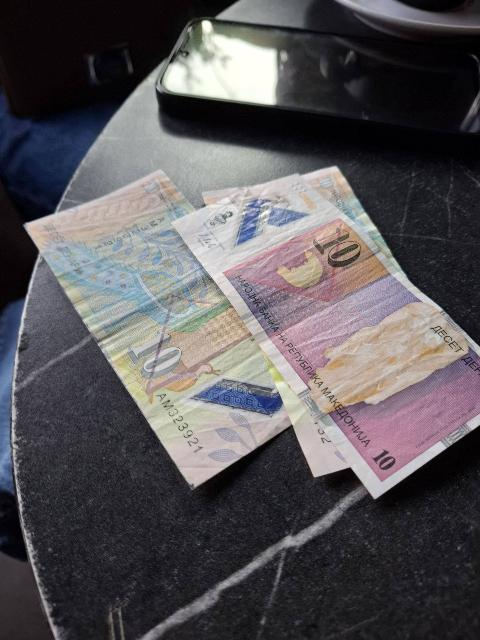10_note: (198, 176, 479, 475), (31, 183, 297, 479)
